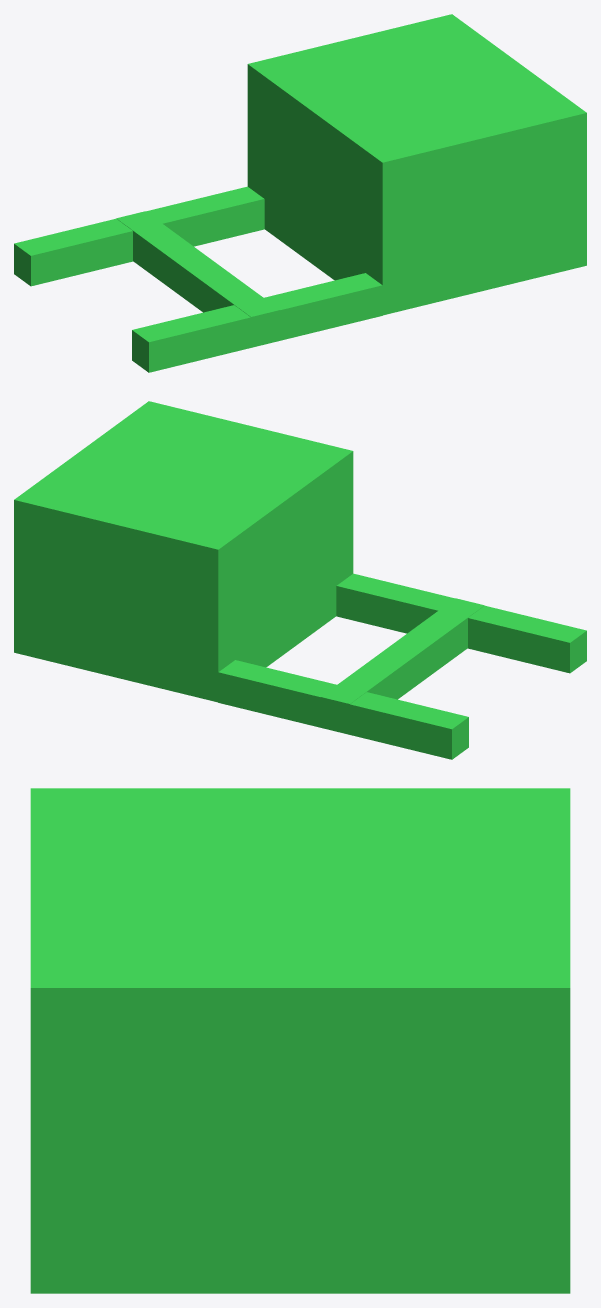
The model's file is venture.glb.
The picture shows the model from 3 angles, top to bottom: view 1: azimuth 30°, elevation 25°; view 2: azimuth 150°, elevation 25°; view 3: azimuth 270°, elevation 25°; orthographic projection. The views are drawn at different scales.
Visible parts, largest first — view 1: Cube.003, Cube.001, Cube.002, Cube; view 2: Cube.003, Cube.002, Cube.001, Cube; view 3: Cube.003.
Part boxes in pixels (x1,y1,x2,y2): Cube.003: (247,14,586,315); Cube.001: (132,273,382,372); Cube.002: (14,186,264,286); Cube: (116,211,280,347); Cube.003: (14,401,353,702); Cube.002: (218,660,468,759); Cube.001: (336,573,586,673); Cube: (320,598,484,734); Cube.003: (30,788,570,1293).
Size of the model in its own units: 30 by 10.02 by 16.
